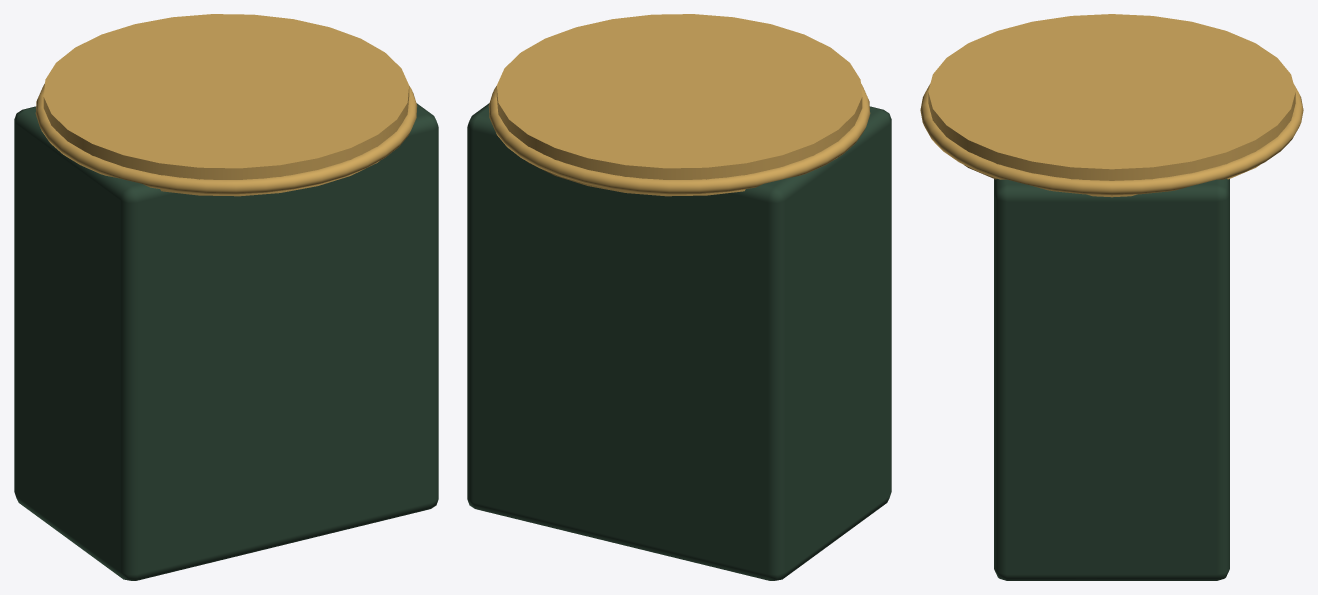
File: wp-boite-de-the.glb
3 renders of one model, left to right at view 1: azimuth 30°, elevation 25°; view 2: azimuth 150°, elevation 25°; view 3: azimuth 270°, elevation 25°, orthographic.
Parts seen in each view (by area): view 1: wp-boite-de-the; view 2: wp-boite-de-the; view 3: wp-boite-de-the.
Part boxes in pixels (x1,y1,x2,y2): wp-boite-de-the: (14, 14, 438, 580); wp-boite-de-the: (467, 14, 891, 580); wp-boite-de-the: (920, 14, 1303, 580).
Size of the model in its own units: 0.1 by 0.12 by 0.1.
